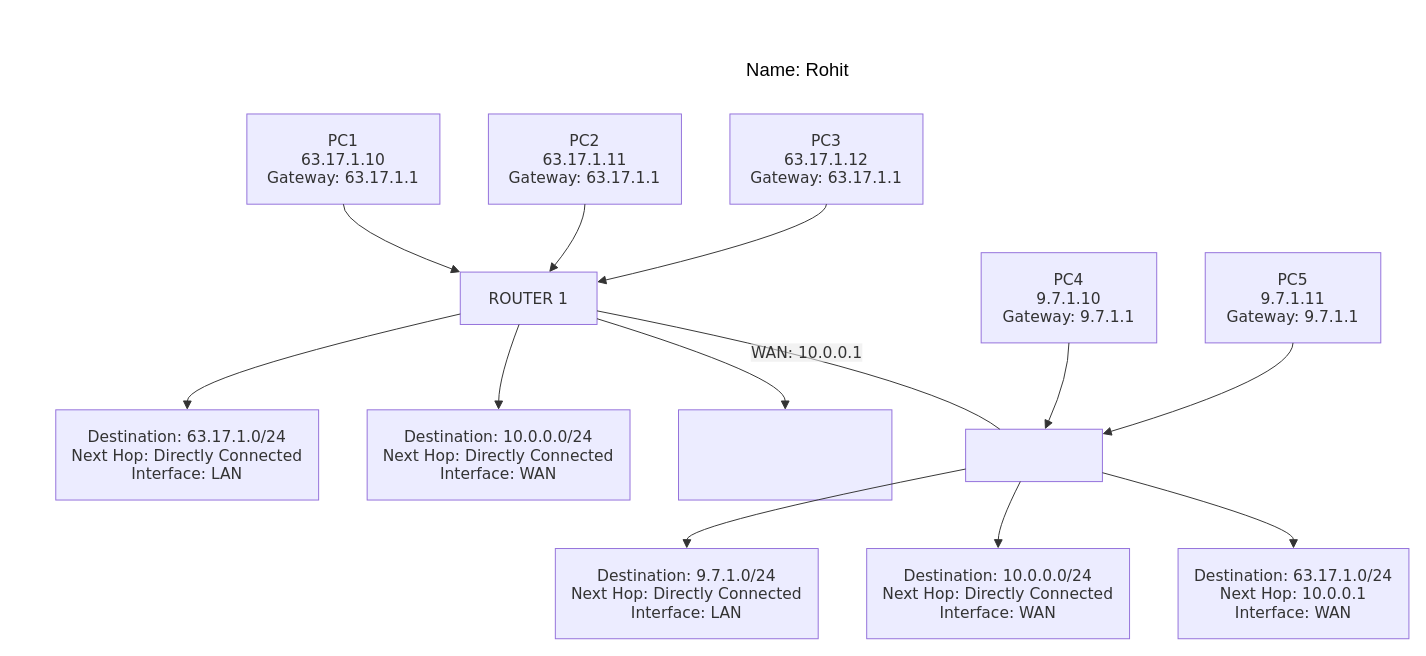
This 1426x656 diagram has some shape labels left out. The centre of each missing label's shape, as x and y in pixels:
Destination: 9.7.1.0/24 Next Hop: 10.0.0.2 Interface: WAN: pixel 785 454
ROUTER 2: pixel 1033 455
